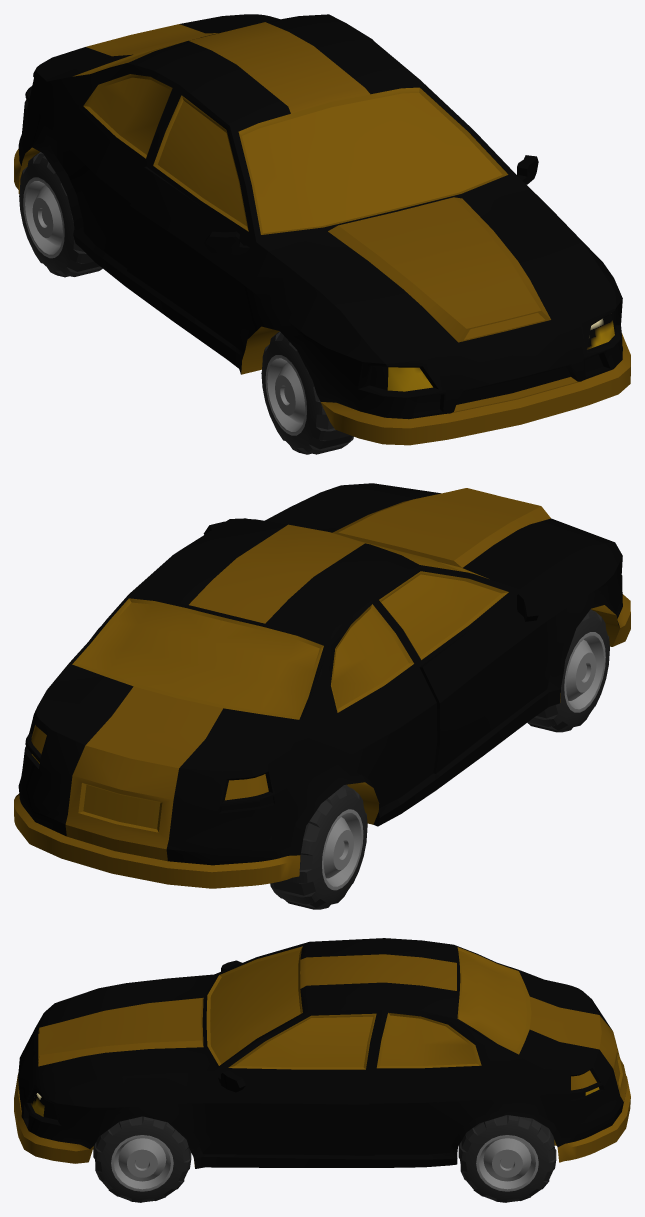
File: citypack-sports-2-L3.glb
The picture shows the model from 3 angles, top to bottom: view 1: azimuth 30°, elevation 25°; view 2: azimuth 150°, elevation 25°; view 3: azimuth 270°, elevation 25°; orthographic projection. The views are drawn at different scales.
Parts seen in each view (by area): view 1: body, wheel-front-left, wheel-back-left; view 2: body, wheel-back-left, wheel-front-left; view 3: body, wheel-back-right, wheel-front-right.
Boxes of the visible parts, x1,y1,x2,y2 form: body: (14, 14, 630, 445); wheel-front-left: (261, 331, 353, 454); wheel-back-left: (19, 152, 102, 277); body: (14, 483, 630, 888); wheel-back-left: (270, 785, 367, 909); wheel-front-left: (527, 609, 609, 732); body: (14, 938, 630, 1168); wheel-back-right: (458, 1115, 556, 1202); wheel-front-right: (93, 1116, 191, 1202).
Size of the model in its own units: 2.67 by 1.86 by 5.66.
2 materials, 2 textured.
